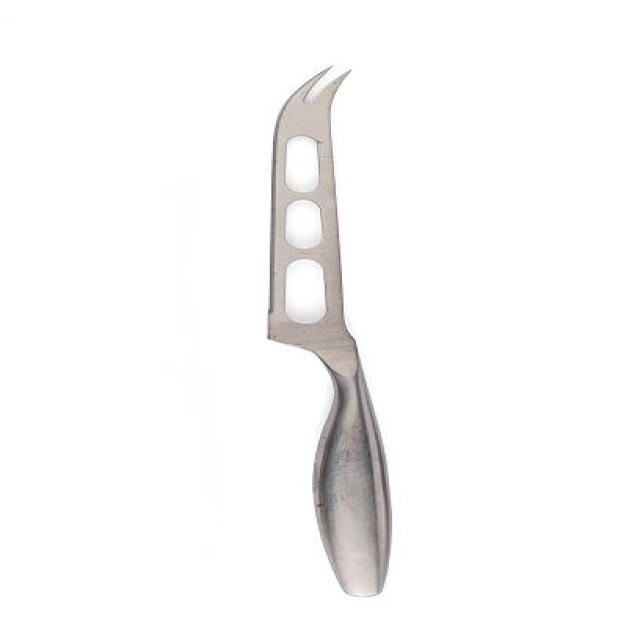knife: (261, 64, 397, 600)
